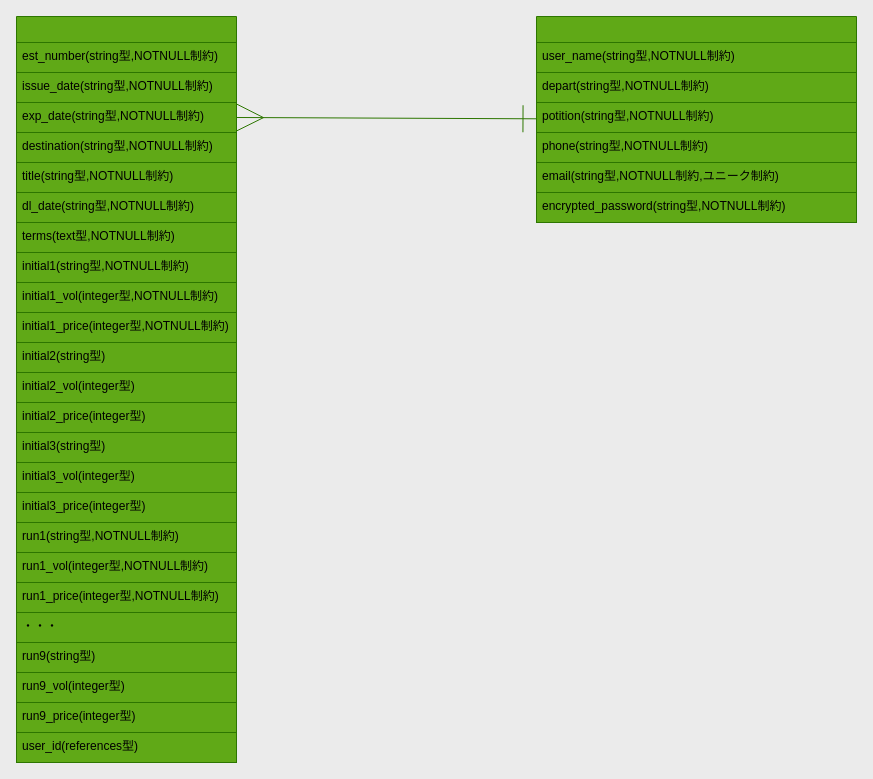
This 873x779 diagram has some shape labels left out. The shapes that lost their labels are listed below. From the top down, each one's box as (x1, y1, x2, y2) in pixels, then its label:
(536, 16, 856, 222): Users
(16, 16, 236, 762): MyPages
